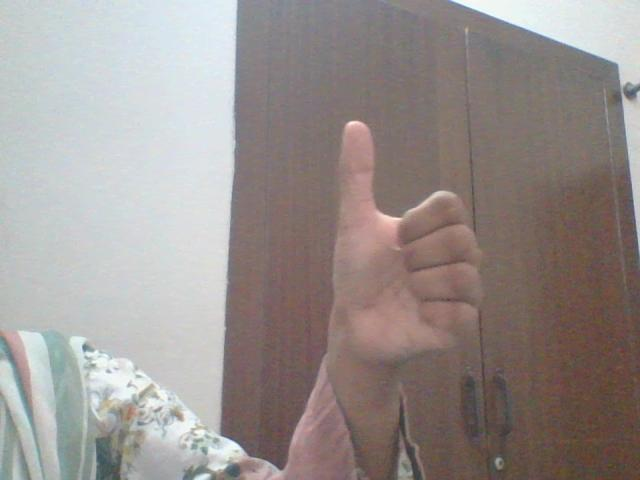thumbs-up: (313, 119, 486, 361)
